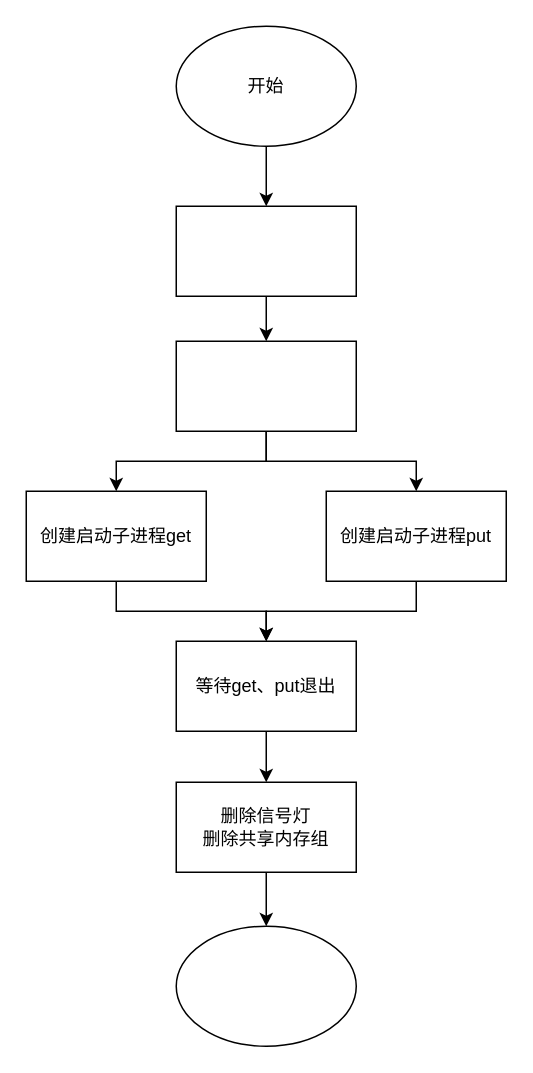
The diagram is 533 pixels wide and 1073 high, and some of its shapes have lost their labels. The shapes that lost their labels are listed below. From the top down, each one's centre as x and y in pixels, then its label:
pixel 265 250: 创建共享内存组，共10个，每个key不同
pixel 265 385: 创建信号灯，key为确定值
pixel 265 985: 结束
